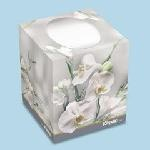grozi_32: (19, 9, 128, 144)
